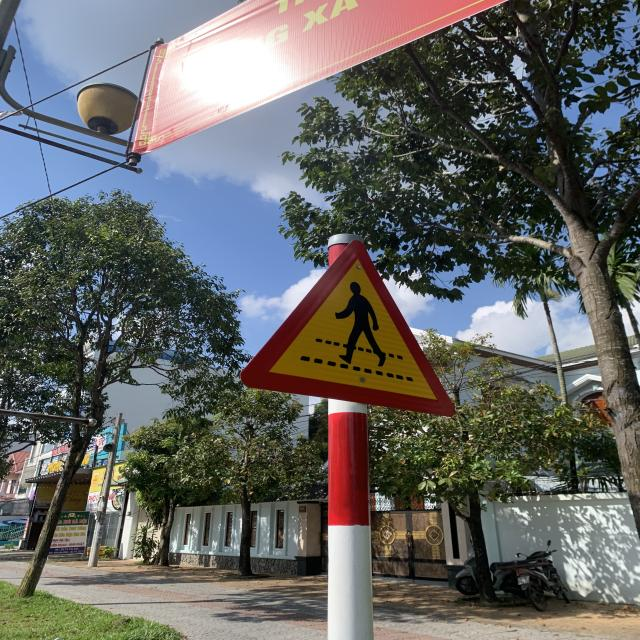Duong_Nguoi_Di_Bo_Sang_Ngang: (238, 240, 461, 416)
